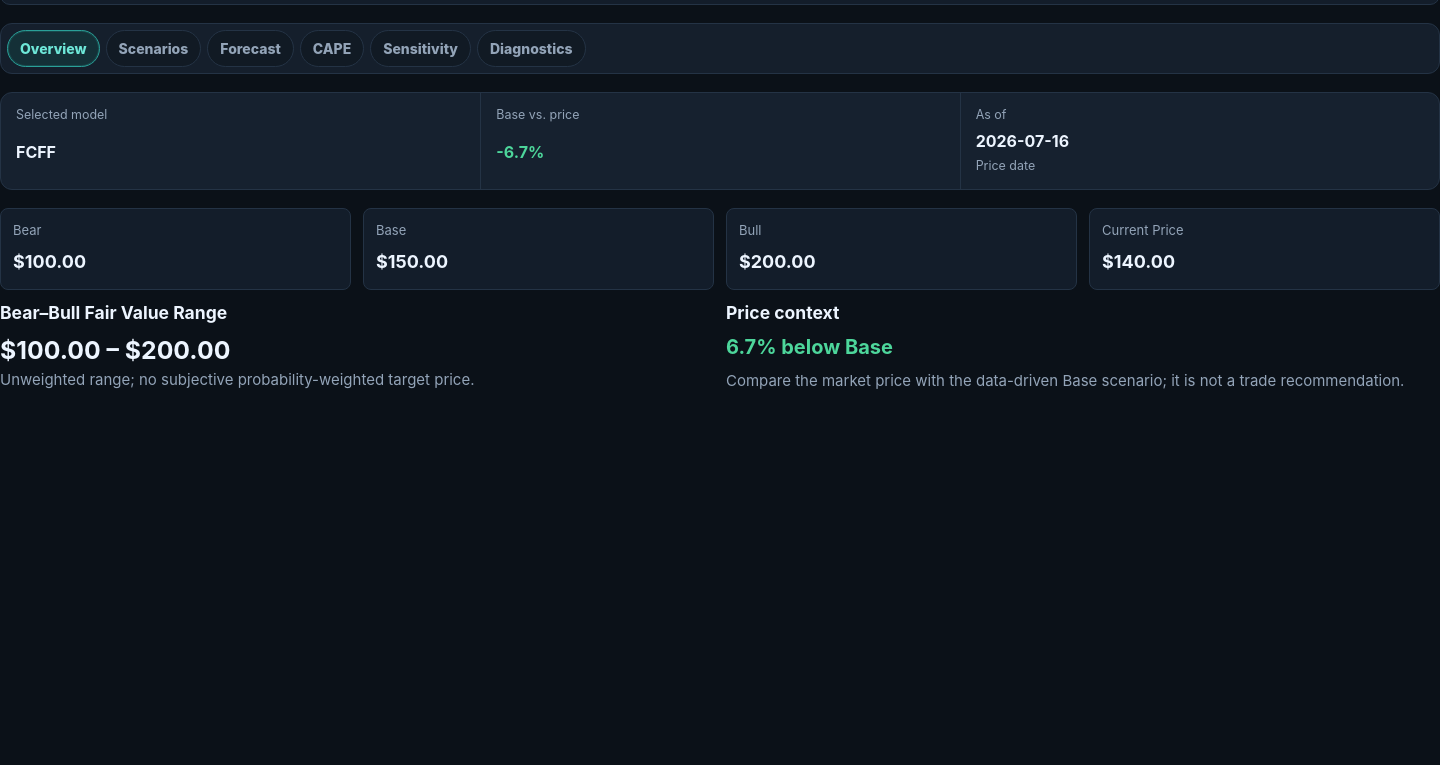
Test: ValuationWorkspace › loads an archetype template, supports a forecast preview, and keeps NWC caveats visible
The width and height of the screenshot is (1440, 765).
Click the button "Forecast": (251, 49) [207,30,294,67]
(page scrolled)
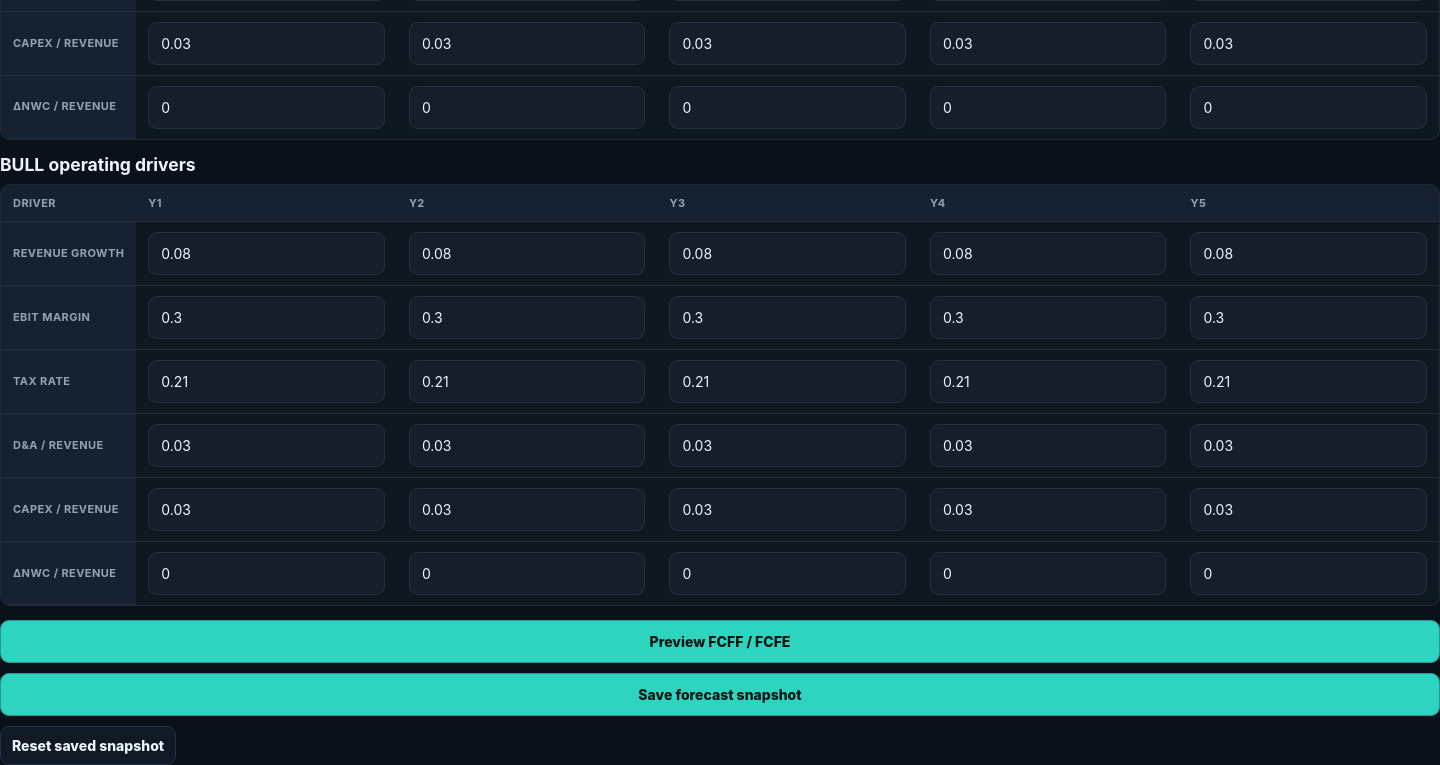
Click the button "Preview FCFF / FCFE": (720, 642) [0,620,1439,663]
(page scrolled)
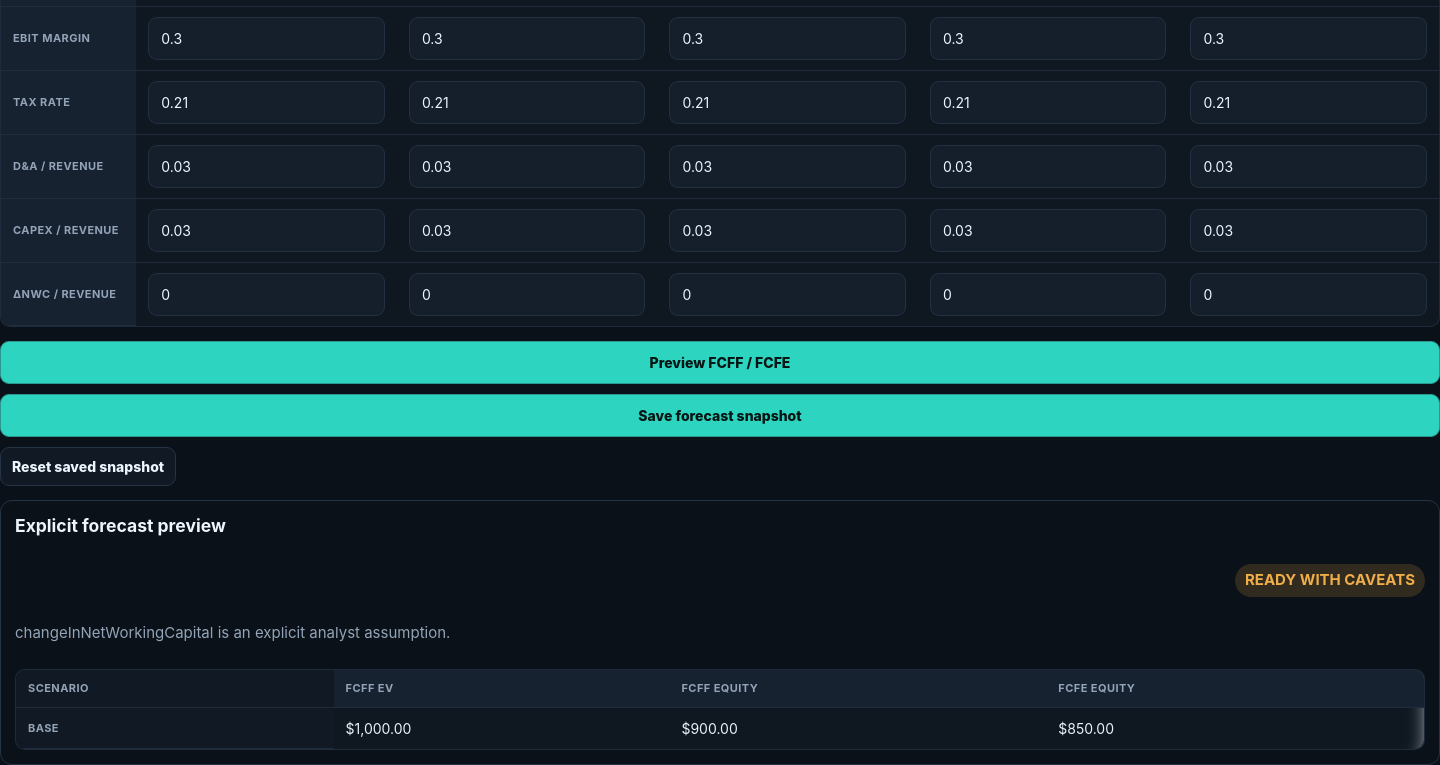
expect the heading "Explicit forecast preview" is shown: met, box [15,515,226,536]
expect the text "changeInNetWorkingCapital is an explicit analyst assumption." is shown: met, box [15,623,450,642]
